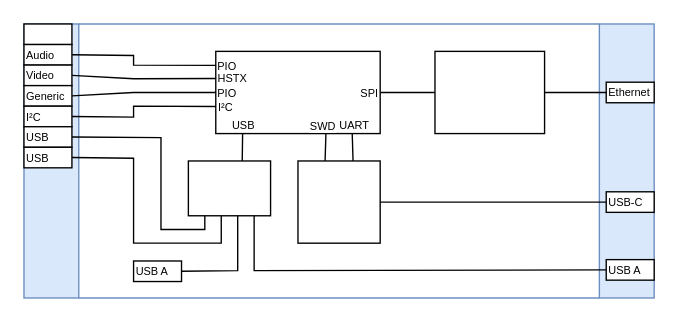
This 678x323 diagram has some shape labels left out. The shapes that lost their labels are listed below. From the top down, each one's centre as x and y in pixels, then its label:
At (47,34): "Power".
At (297,92): "RP2350".
At (489,92): "ENC424J600".
At (229,188): "USB Hub".
At (338,201): "Debug Probe".
